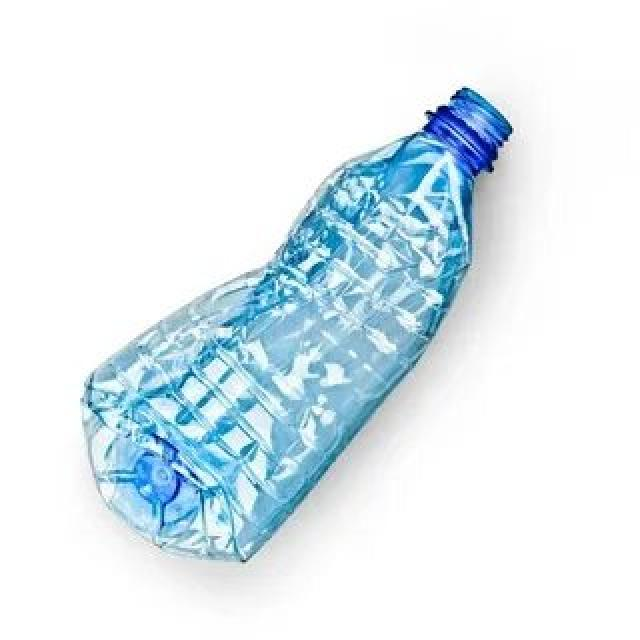blue: (78, 83, 515, 560)
